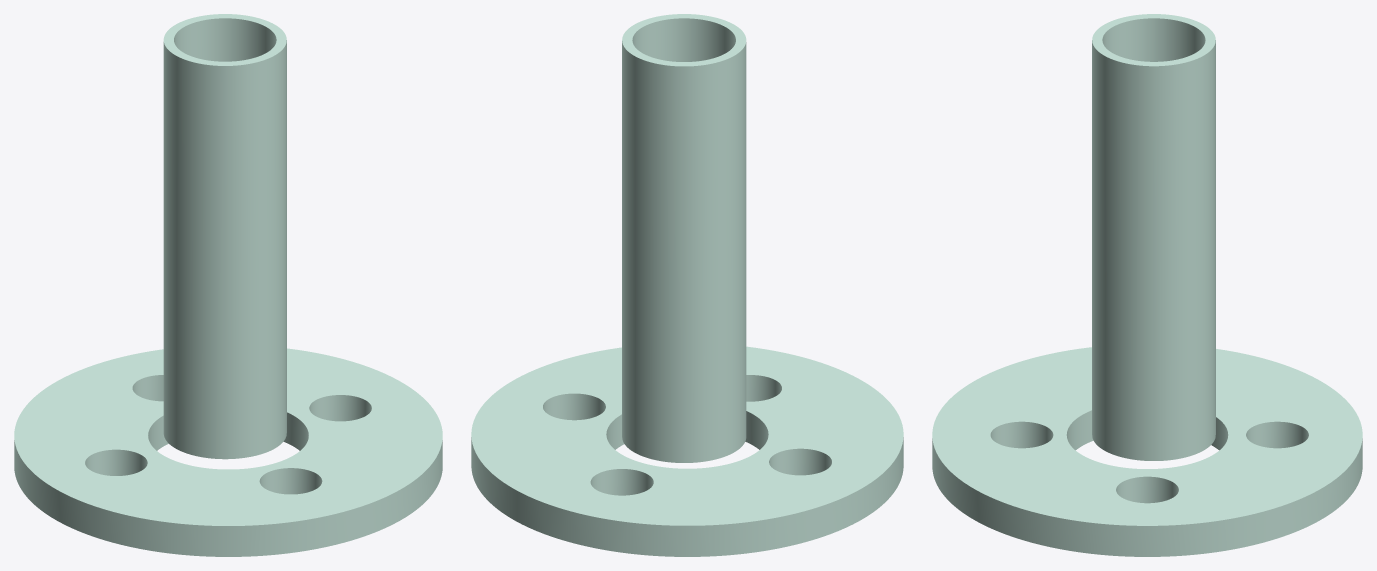
Rendered from expected.gltf.
The picture shows the model from 3 angles, left to right: view 1: azimuth 30°, elevation 25°; view 2: azimuth 150°, elevation 25°; view 3: azimuth 270°, elevation 25°; orthographic projection.
Parts seen in each view (by area): view 1: Renderer Node; view 2: Renderer Node; view 3: Renderer Node.
Part boxes in pixels (x1,y1,x2,y2): Renderer Node: (14, 14, 442, 556); Renderer Node: (471, 14, 903, 556); Renderer Node: (932, 14, 1362, 556).
Bounding box in the file's own units: 0.6866 × 0.75 × 0.6868.
